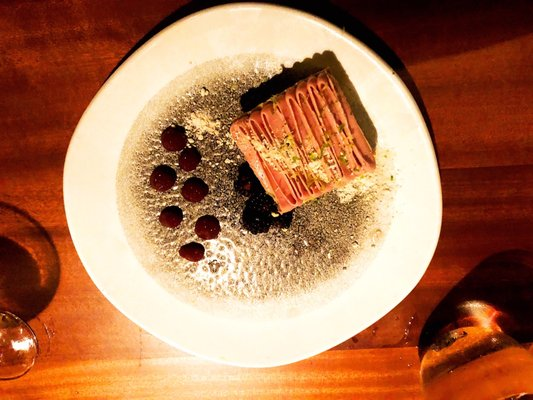curry: (14, 2, 531, 398)
sandwich: (0, 201, 61, 381)
sushi: (228, 60, 377, 216)
